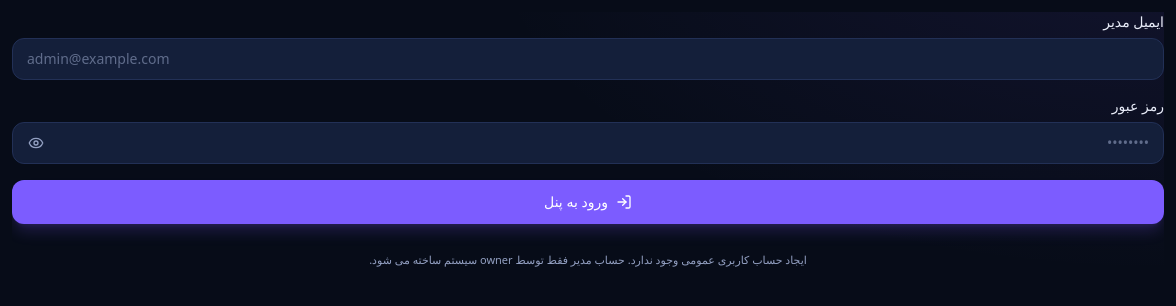
Test: LoginForm › rejects malformed email formats
The image size is (1176, 306).
Type "admin@" into the field labelled "ایمیل مدیر" at {"x": 588, "y": 59}, box [12, 38, 1164, 80]
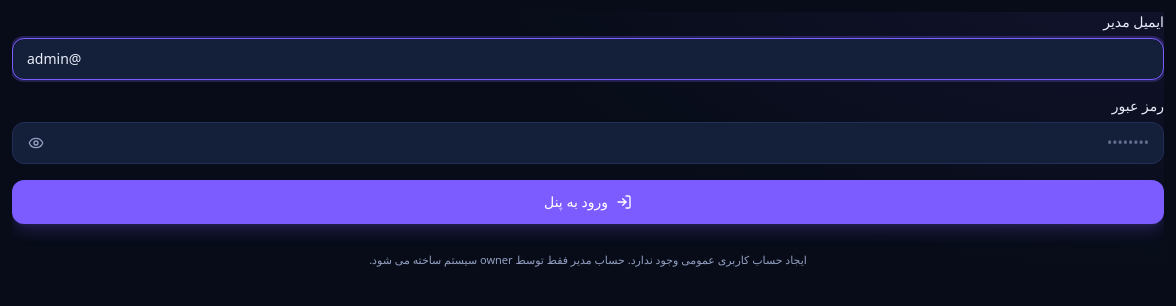
Type "secret" into the password field labelled "رمز عبور" at {"x": 588, "y": 143}, box [12, 122, 1164, 164]
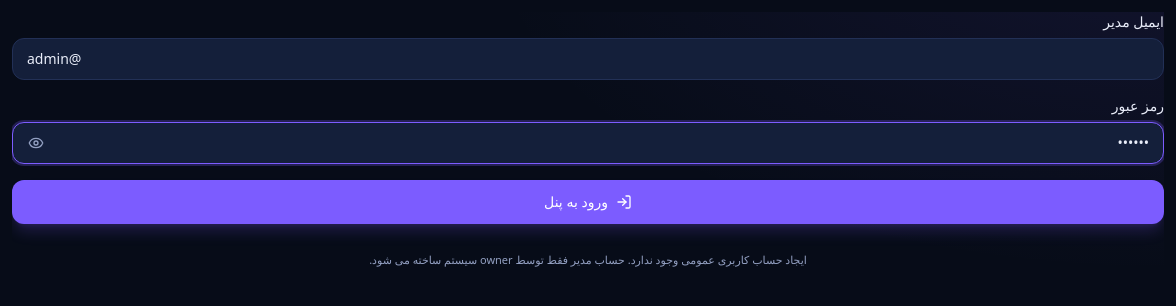
Click the button "ورود به پنل" at {"x": 588, "y": 202}, box [12, 180, 1164, 224]
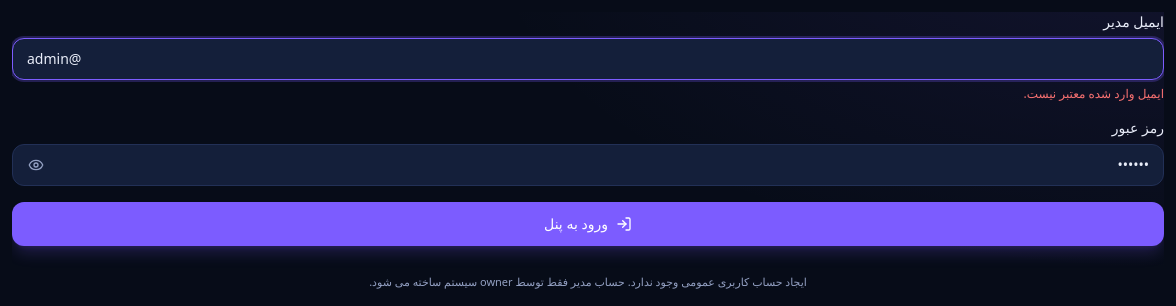
Now the text "ایمیل وارد شده معتبر نیست." is shown, box [1024, 85, 1164, 102]
